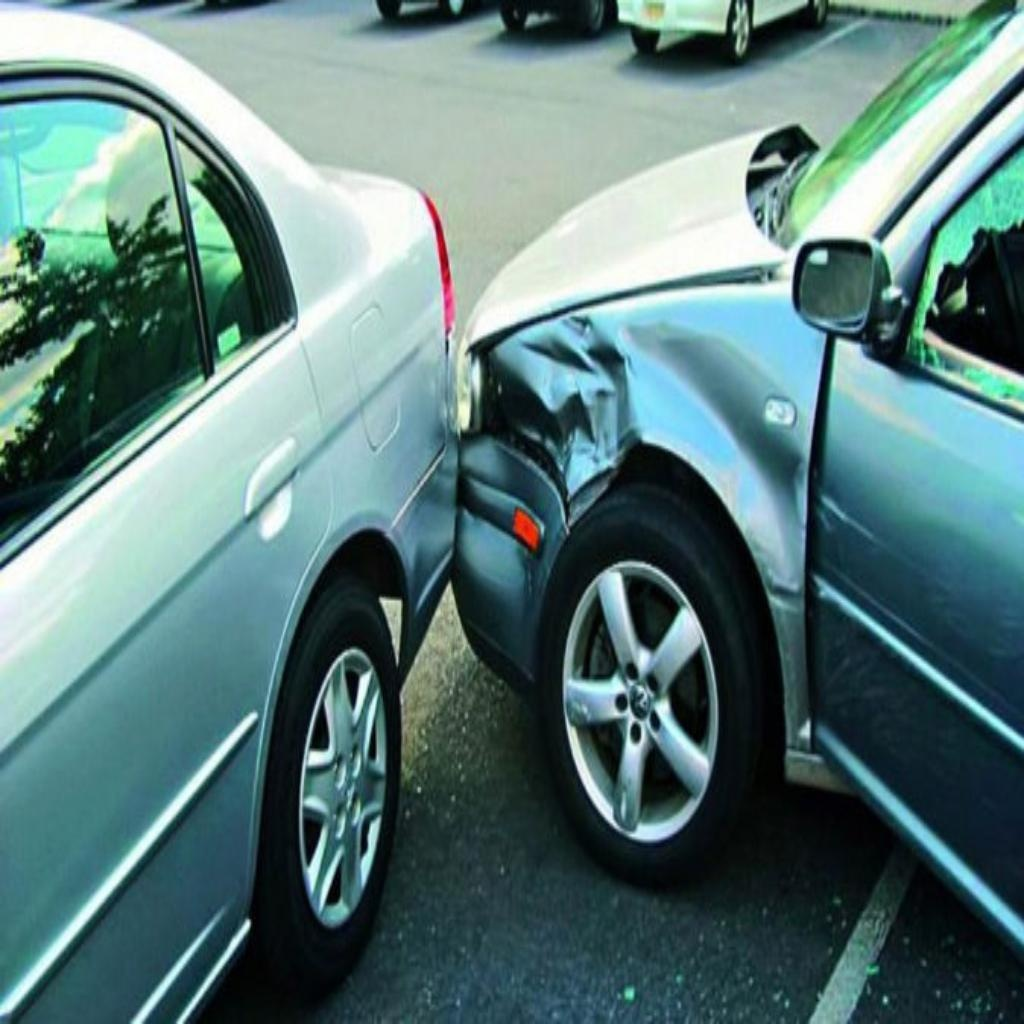Dent: (452, 306, 816, 621)
